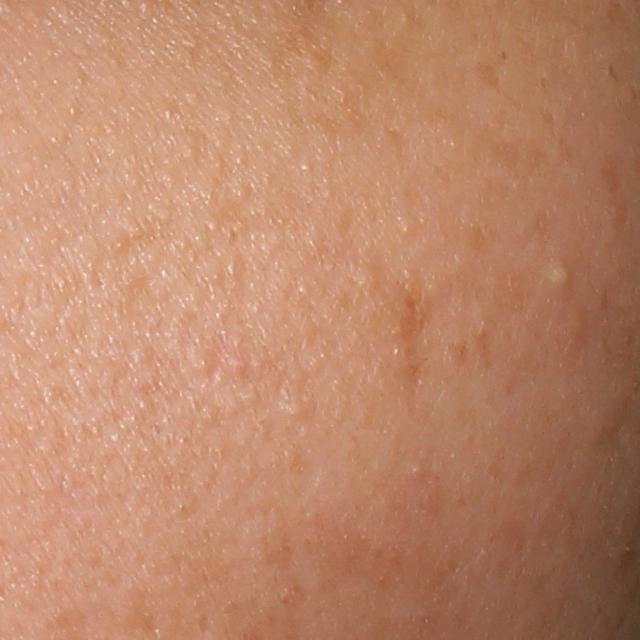atrophic_scar: (396, 280, 439, 412)
comedo: (539, 260, 570, 293), (187, 349, 217, 378), (282, 398, 310, 425), (396, 212, 418, 240), (405, 462, 429, 479)
melasma: (257, 3, 332, 73), (487, 137, 549, 175), (474, 57, 507, 92), (605, 61, 619, 82)
